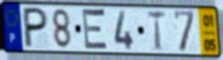4: (113, 9, 135, 52)
7: (173, 10, 196, 54)
8: (50, 7, 73, 50)
E: (81, 6, 110, 53)
P: (23, 6, 50, 50)
T: (146, 9, 167, 53)
